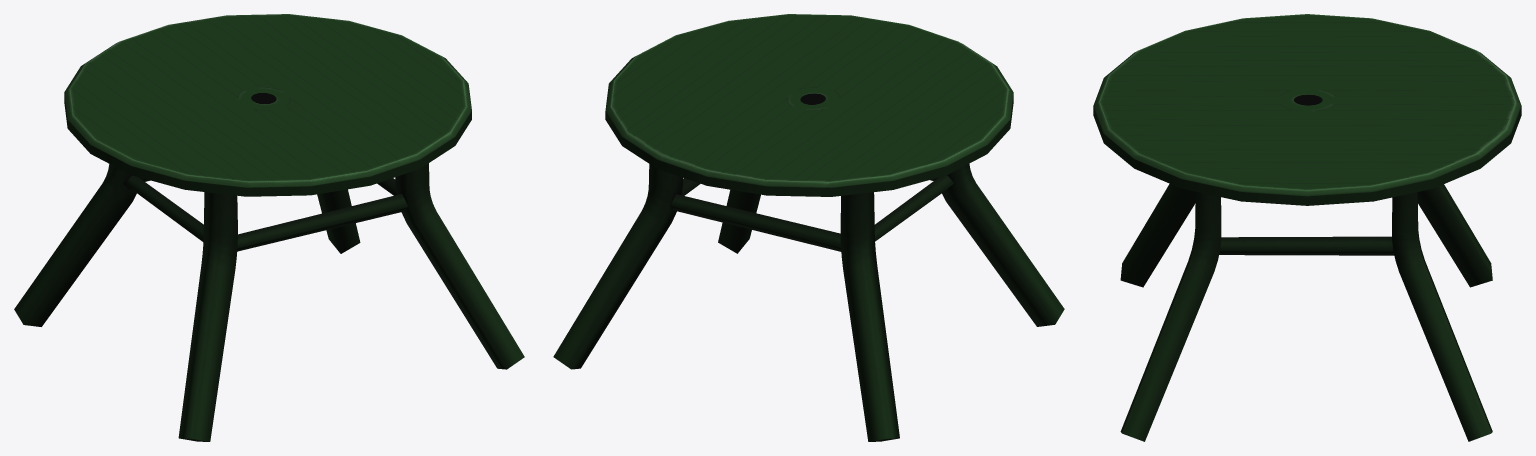
File: Sun_0853_Plastic_Garden_Furniture_Round_Table.fbx
3 renders of one model, left to right at view 1: azimuth 30°, elevation 25°; view 2: azimuth 150°, elevation 25°; view 3: azimuth 270°, elevation 25°, orthographic. The views are drawn at different scales.
Visible parts, largest first — view 1: Sun_0853_Plastic_Garden_Furniture_Round_Table; view 2: Sun_0853_Plastic_Garden_Furniture_Round_Table; view 3: Sun_0853_Plastic_Garden_Furniture_Round_Table.
Boxes of the visible parts, x1,y1,x2,y2 form: Sun_0853_Plastic_Garden_Furniture_Round_Table: [14, 14, 524, 441]; Sun_0853_Plastic_Garden_Furniture_Round_Table: [553, 14, 1064, 441]; Sun_0853_Plastic_Garden_Furniture_Round_Table: [1093, 14, 1521, 441].
Size of the model in its own units: 115 by 77.69 by 115.
